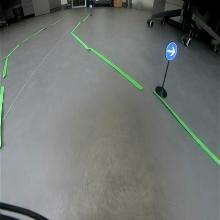right: (165, 42, 177, 62)
